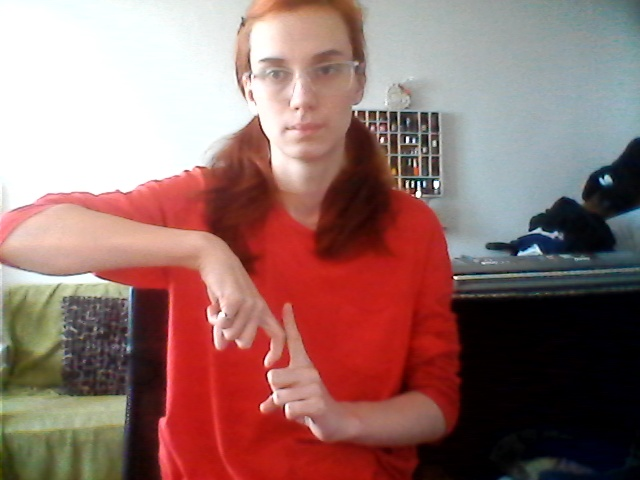k: (188, 266, 333, 447)
